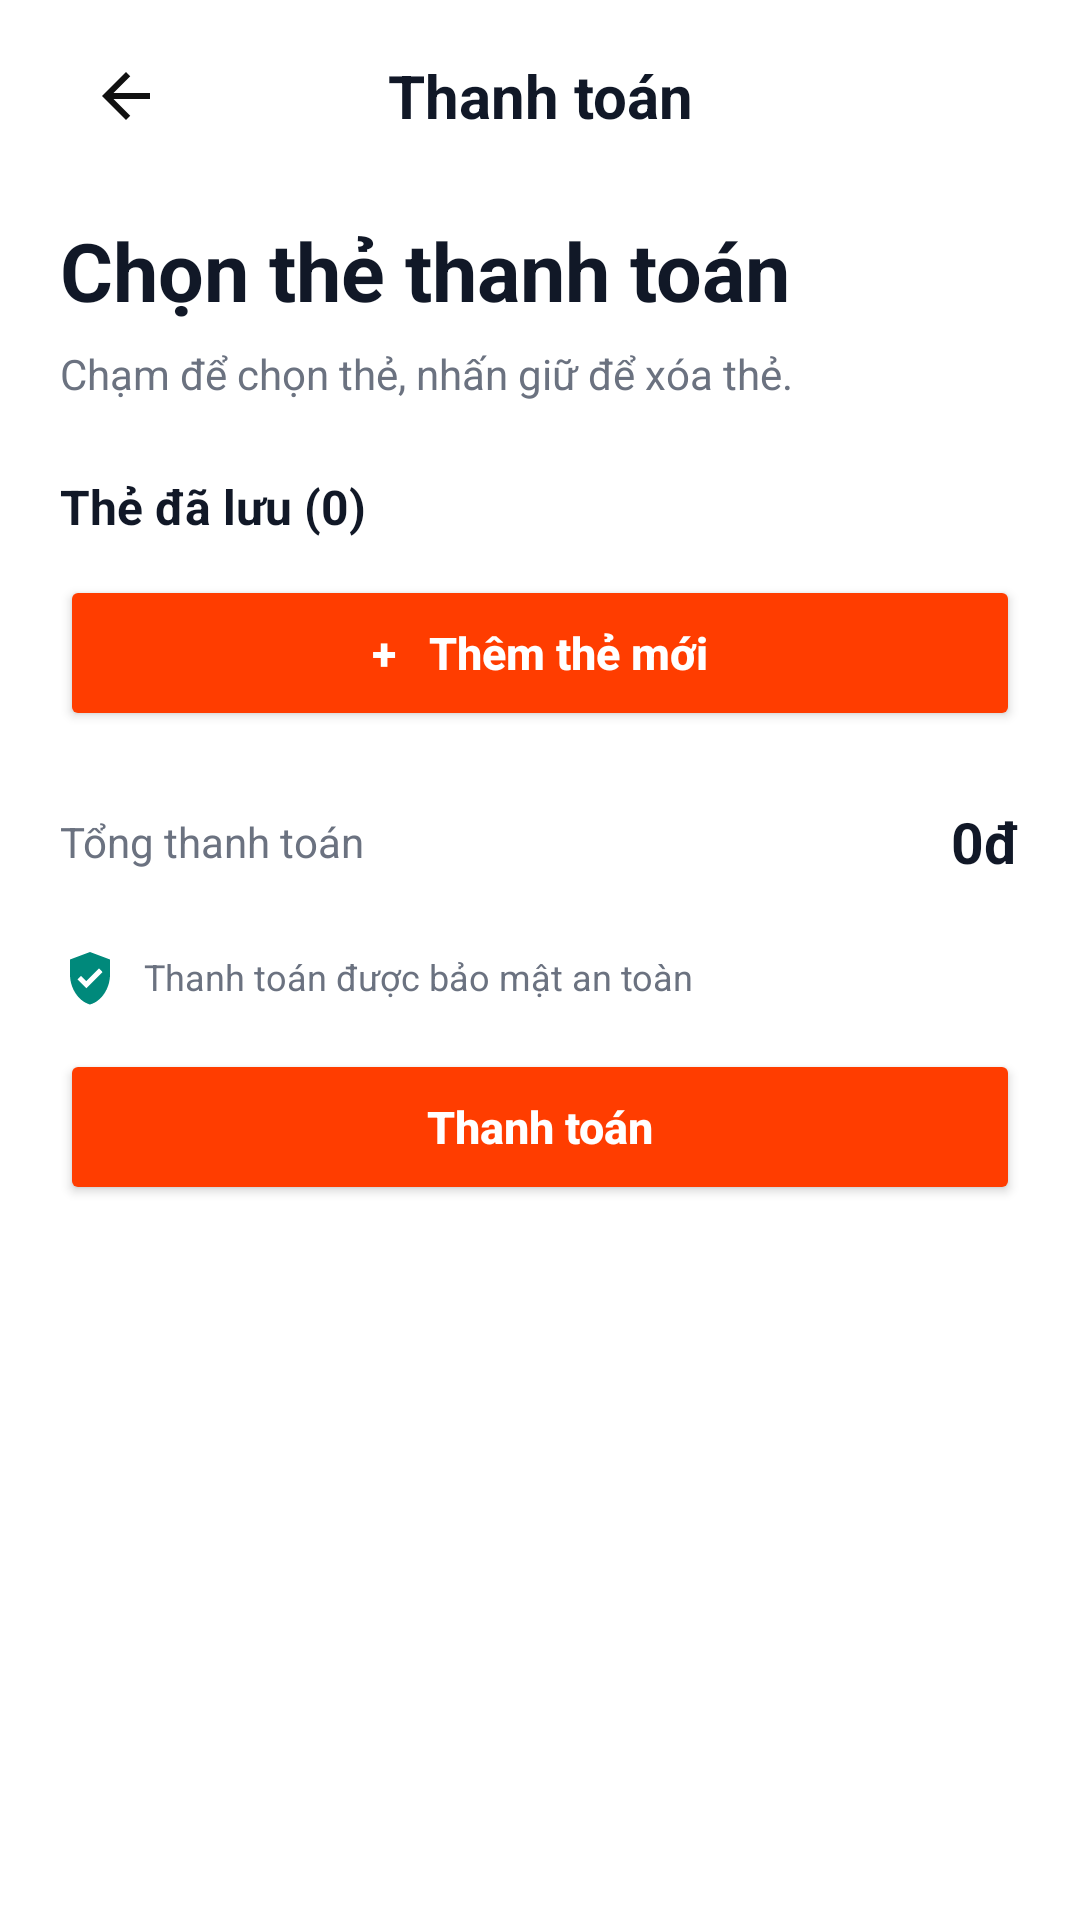

Point at icon controls on the screen. Image size 1080x1920, points as [x,y].
Quay lại: [126,96]
